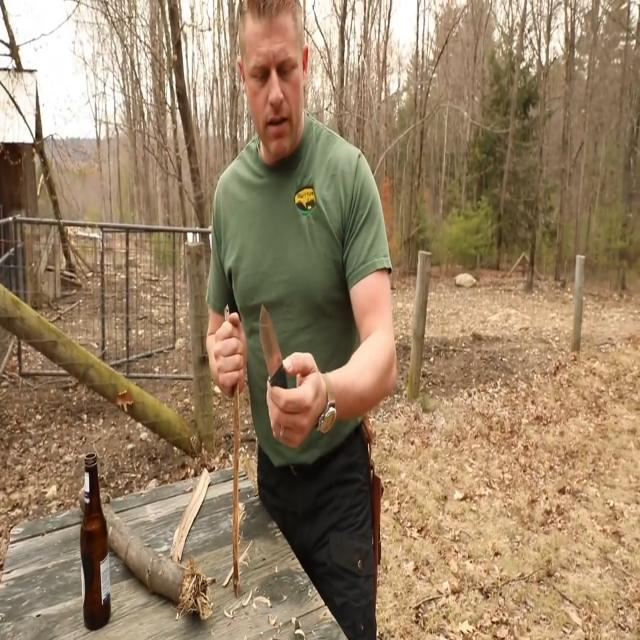knife: (257, 305, 291, 389)
